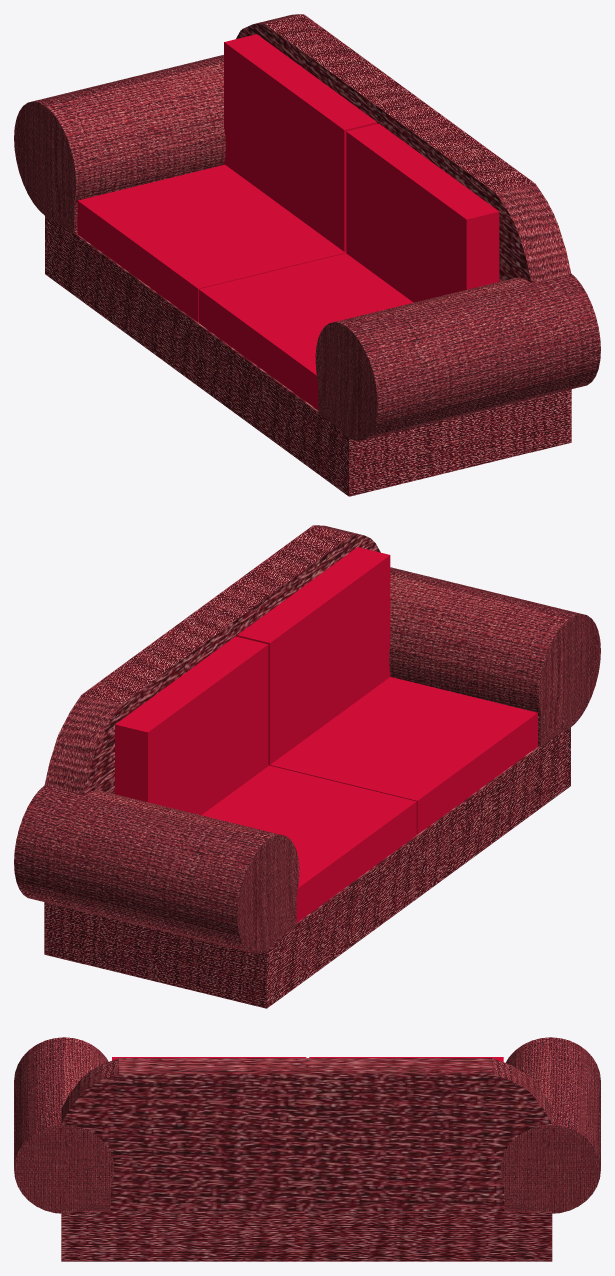
Rendered from Couch_RedSpawn.glb.
3 views of the same model, one above another, from view 1: azimuth 30°, elevation 25°; view 2: azimuth 150°, elevation 25°; view 3: azimuth 270°, elevation 25° (orthographic). The views are drawn at different scales.
Visible parts, largest first — view 1: Cube.001; view 2: Cube.001; view 3: Cube.001.
Part boxes in pixels (left/top/right/bottom): Cube.001: left=14, top=14, right=600, bottom=496; Cube.001: left=14, top=525, right=600, bottom=1008; Cube.001: left=14, top=1037, right=600, bottom=1261.
Bounding box in the file's own units: 1.11 × 1.11 × 3.13.
Materials: 4 (1 with a texture image).
